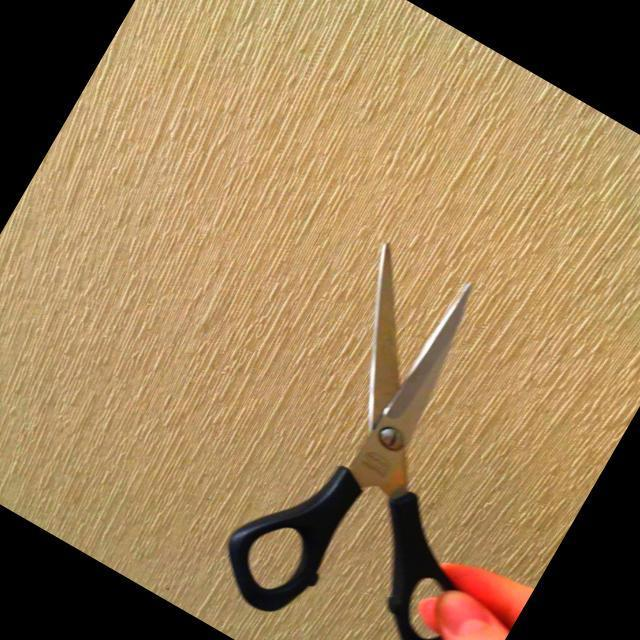scissors: (198, 238, 615, 640)
